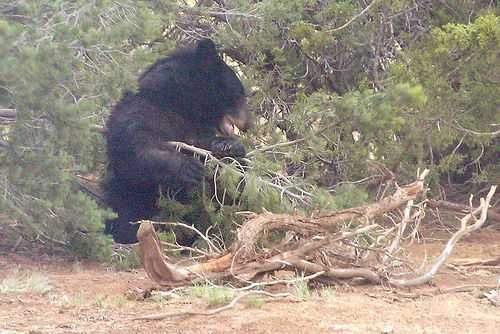bear: (141, 23, 269, 151)
